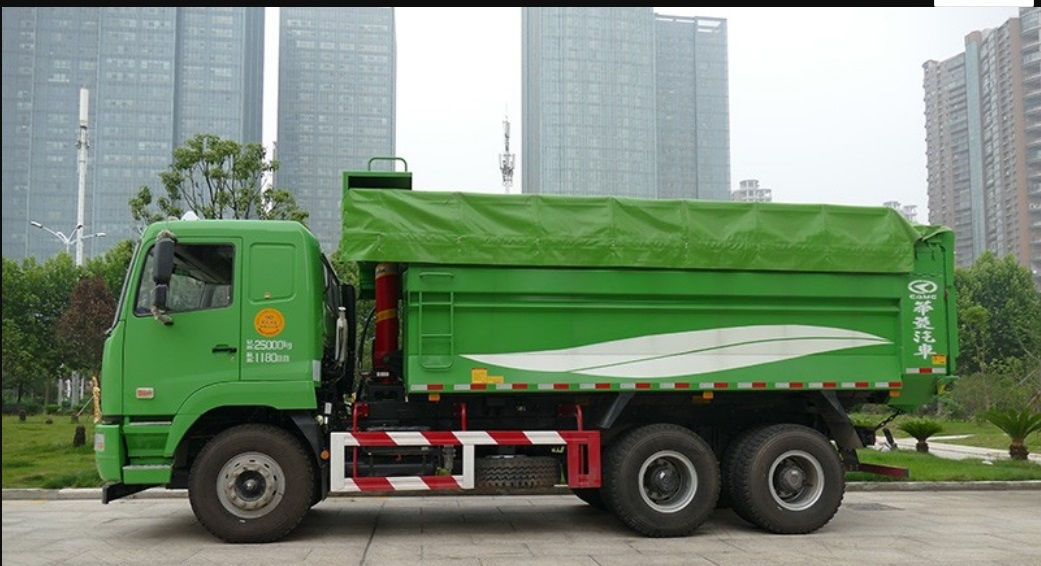heavy truck: (90, 153, 958, 539)
